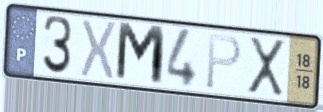3: (41, 14, 75, 77)
4: (164, 25, 199, 92)
M: (113, 19, 168, 90)
P: (204, 32, 243, 92)
X: (78, 16, 120, 83), (247, 35, 287, 99)
